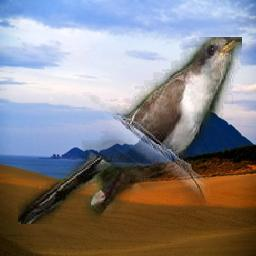Cuckoo: (18, 38, 242, 225)
